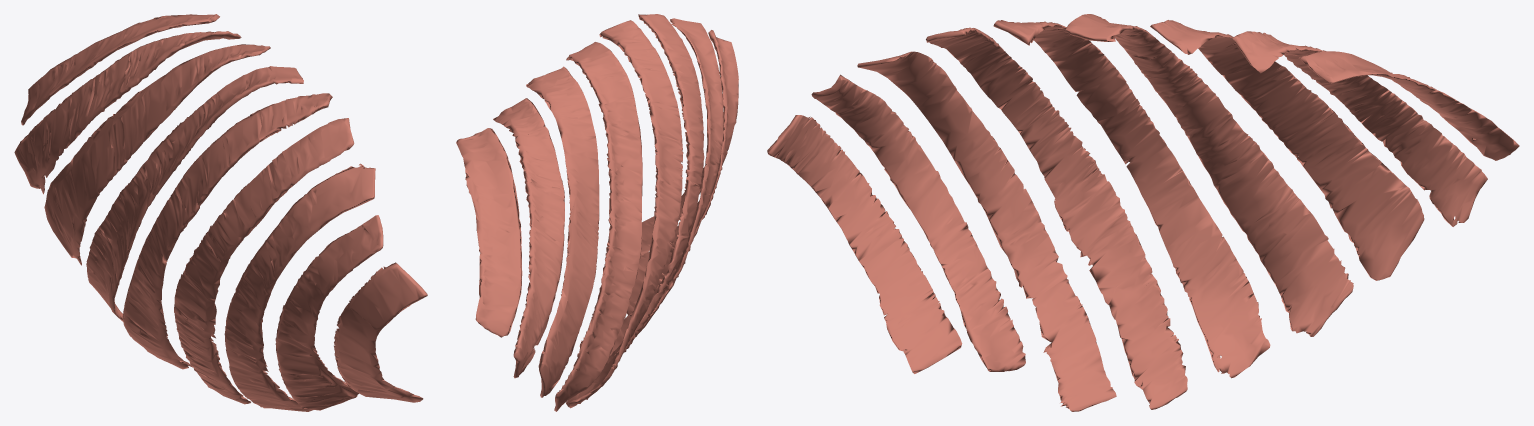
3 renders of one model, left to right at view 1: azimuth 30°, elevation 25°; view 2: azimuth 150°, elevation 25°; view 3: azimuth 270°, elevation 25°, orthographic. The views are drawn at different scales.
Parts seen in each view (by area): view 1: 右侧肋间最内肌; view 2: 右侧肋间最内肌; view 3: 右侧肋间最内肌.
Part boxes in pixels (left/top/right/bottom): 右侧肋间最内肌: left=14, top=14, right=427, bottom=411; 右侧肋间最内肌: left=456, top=14, right=738, bottom=411; 右侧肋间最内肌: left=767, top=14, right=1519, bottom=411.
Bounding box in the file's own units: 0.135 × 0.276 × 0.4786.
